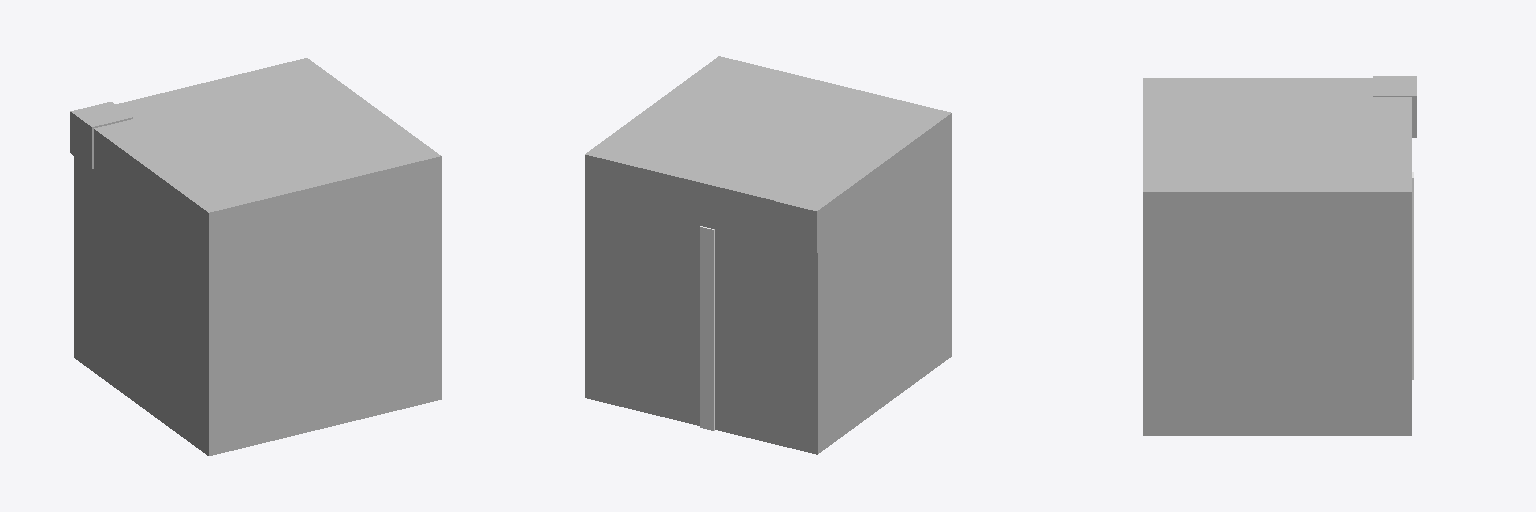
3 renders of one model, left to right at view 1: azimuth 30°, elevation 25°; view 2: azimuth 150°, elevation 25°; view 3: azimuth 270°, elevation 25°, orthographic.
Parts seen in each view (by area): view 1: BigCube, CubeCentrale_Cube.005; view 2: BigCube, CubeCentrale_Cube.005, murret_Cube.001; view 3: BigCube, CubeCentrale_Cube.005.
Part boxes in pixels (bbox=[...]): BigCube: bbox=[74, 58, 441, 455]; CubeCentrale_Cube.005: bbox=[70, 102, 132, 168]; BigCube: bbox=[585, 56, 951, 454]; CubeCentrale_Cube.005: bbox=[776, 186, 838, 252]; murret_Cube.001: bbox=[700, 226, 714, 430]; BigCube: bbox=[1143, 78, 1411, 435]; CubeCentrale_Cube.005: bbox=[1373, 76, 1416, 137].
Bounding box in the file's own units: 1.01 × 1.01 × 1.02.